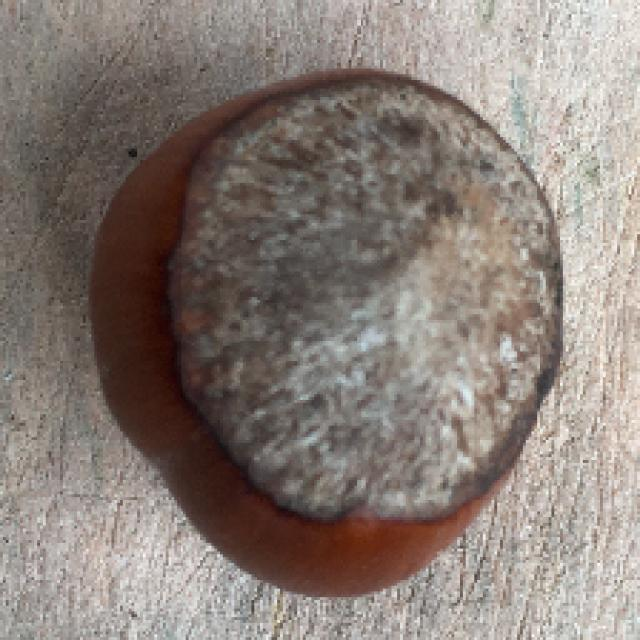QualityHazelnut: (86, 66, 561, 609)
